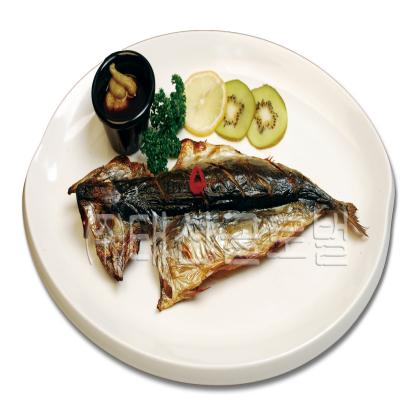Peixe: (69, 153, 376, 330)
